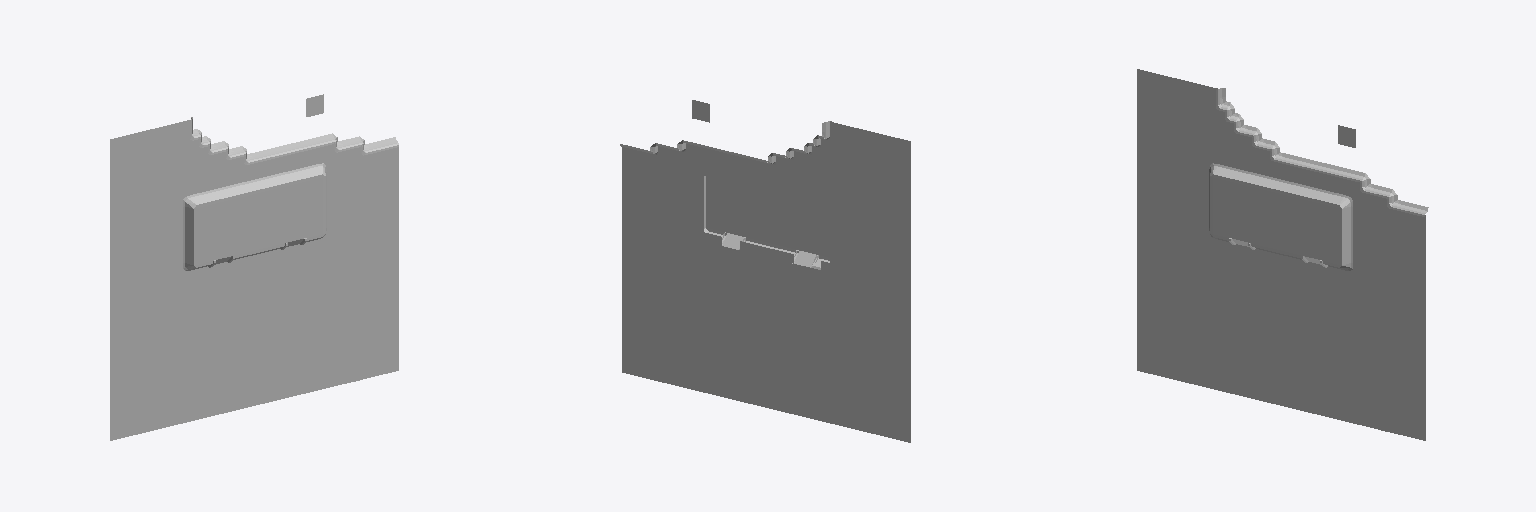
The model's file is testa_01_01.obj.
The picture shows the model from 3 angles: view 1: azimuth 30°, elevation 25°; view 2: azimuth 150°, elevation 25°; view 3: azimuth 330°, elevation 25°; orthographic projection.
Visible parts, largest first — view 1: map; view 2: map; view 3: map.
Boxes of the visible parts, box(x1,y1,x2,y2) form: map: box(110, 94, 398, 440); map: box(620, 100, 910, 442); map: box(1137, 69, 1428, 440).
Size of the model in its own units: 32 by 32 by 1.72.